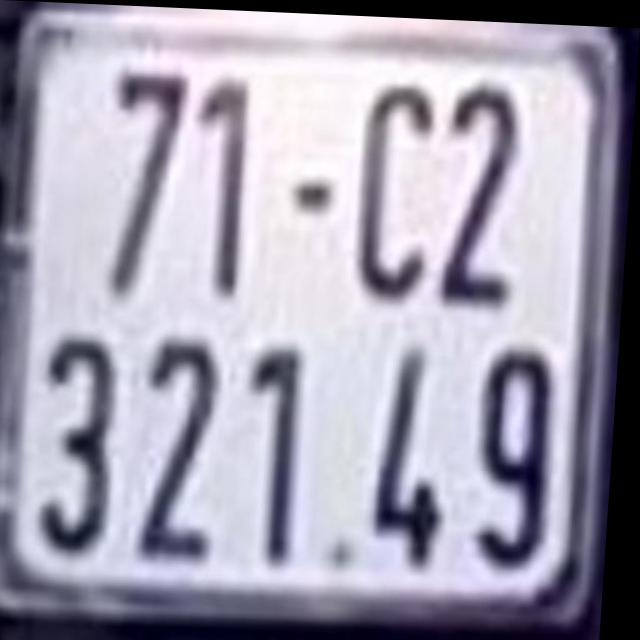1: (243, 337, 314, 556), (195, 73, 263, 297)
2: (145, 332, 237, 558), (449, 69, 535, 301)
3: (38, 332, 129, 558)
4: (376, 331, 455, 561)
7: (110, 59, 193, 298)
9: (479, 331, 565, 566)
C: (355, 80, 439, 298)
